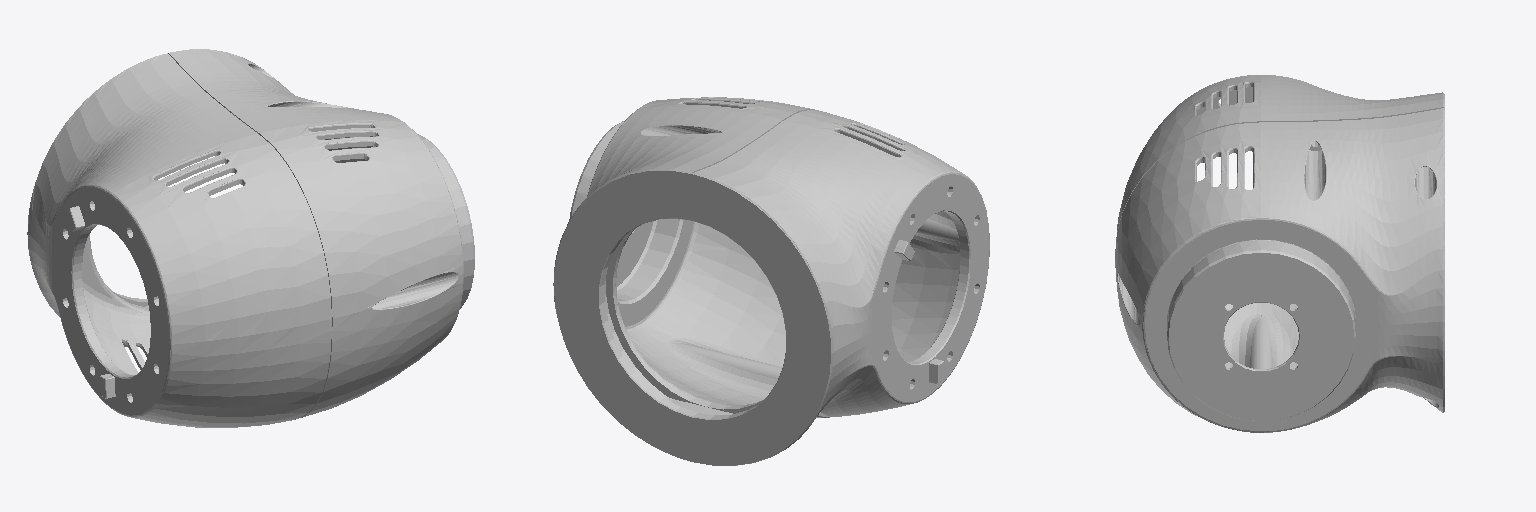
Rendered from sho1_sho2_exo.obj.
The picture shows the model from 3 angles: view 1: azimuth 30°, elevation 25°; view 2: azimuth 150°, elevation 25°; view 3: azimuth 270°, elevation 25°; orthographic projection.
Visible parts, largest first — view 1: sho1_sho2_exo; view 2: sho1_sho2_exo; view 3: sho1_sho2_exo.
Part boxes in pixels (bbox=[...]): sho1_sho2_exo: bbox=[27, 49, 474, 427]; sho1_sho2_exo: bbox=[553, 97, 989, 465]; sho1_sho2_exo: bbox=[1115, 75, 1444, 432].
Bounding box in the file's own units: 0.14 × 0.1187 × 0.1222.